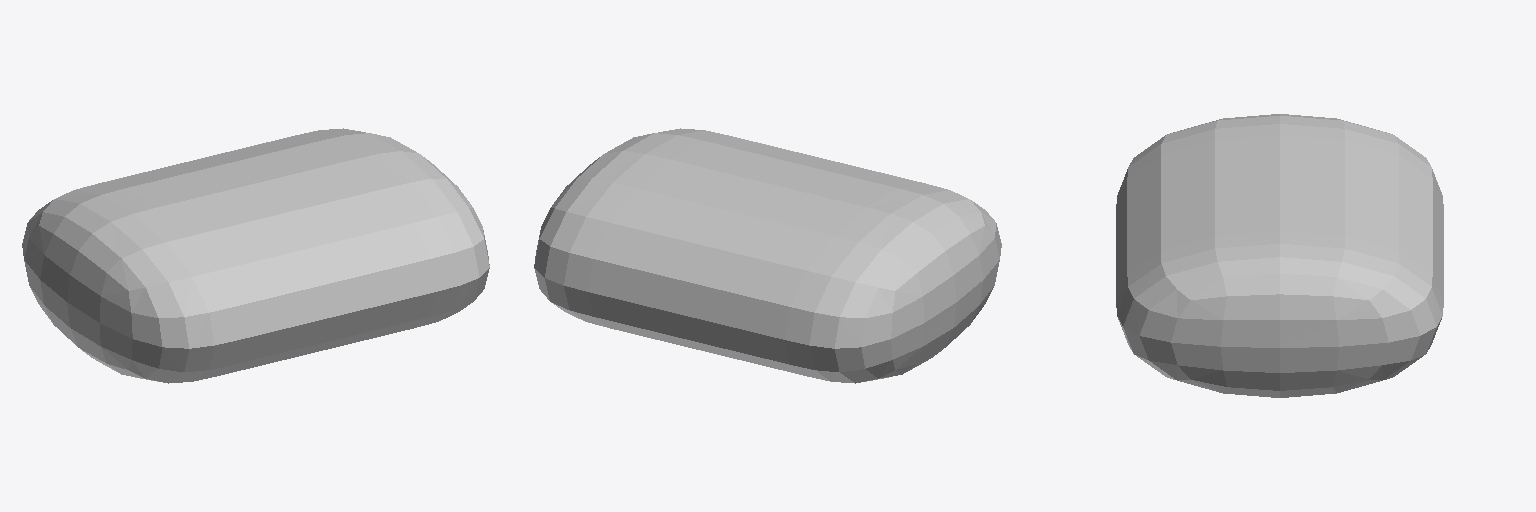
Rendered from pillow1.obj.
3 renders of one model, left to right at view 1: azimuth 30°, elevation 25°; view 2: azimuth 150°, elevation 25°; view 3: azimuth 270°, elevation 25°, orthographic.
Visible parts, largest first — view 1: Cube.020; view 2: Cube.020; view 3: Cube.020.
Part boxes in pixels (x1,y1,x2,y2): Cube.020: (22, 128, 489, 383); Cube.020: (534, 128, 1001, 383); Cube.020: (1116, 114, 1443, 397).
Size of the model in its own units: 0.4619 by 0.1697 by 0.3469.